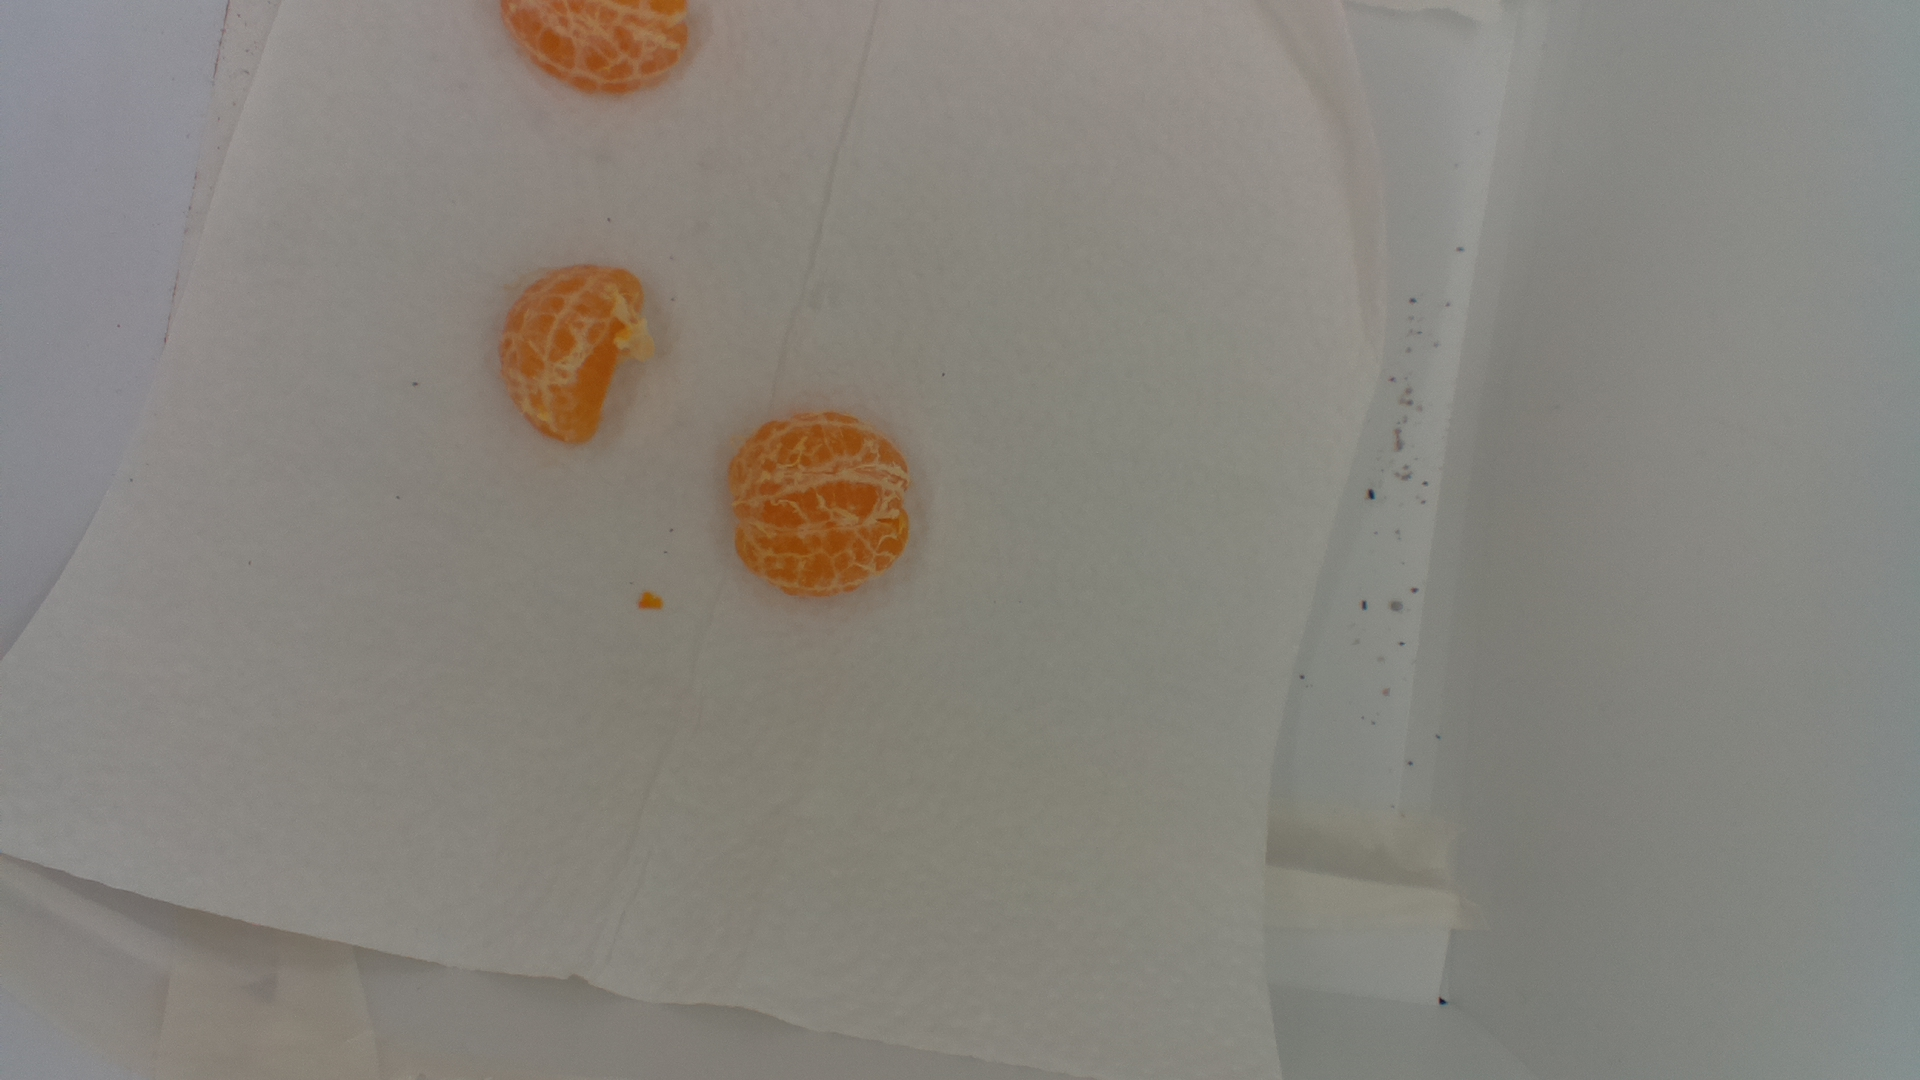fruit: (729, 413, 923, 597), (495, 260, 663, 446), (500, 1, 692, 102)
